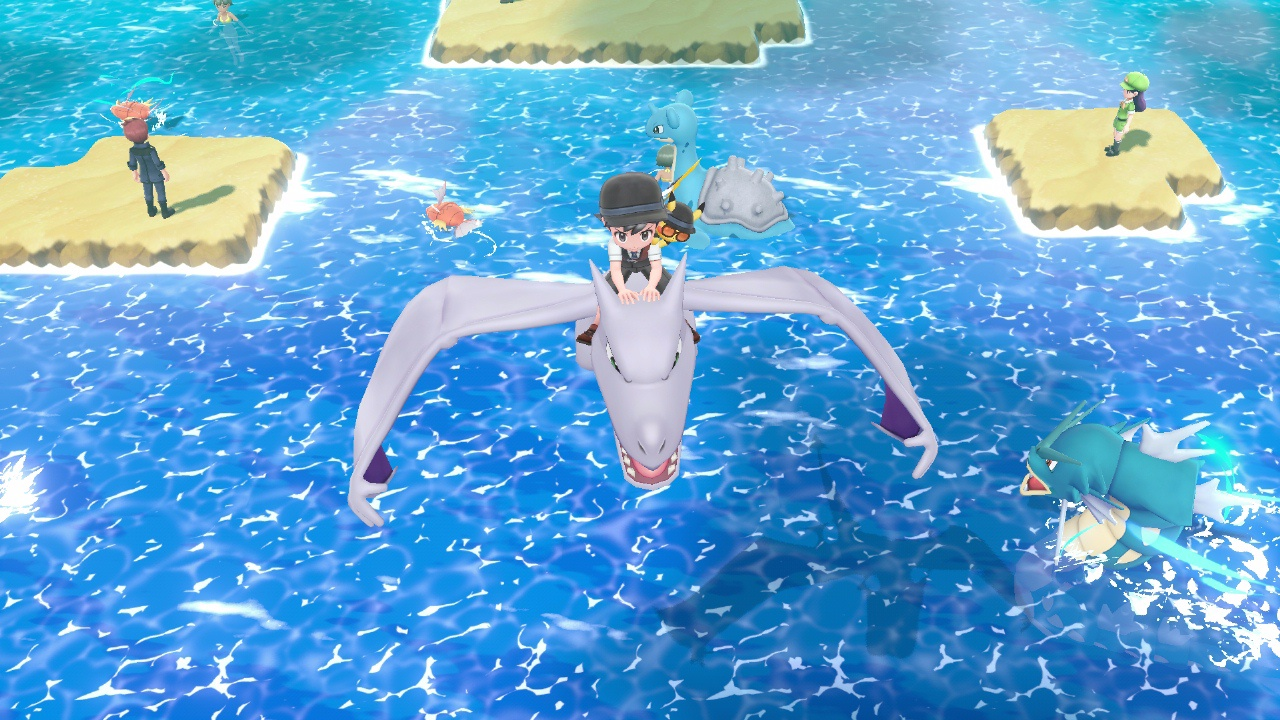Red: (423, 179, 483, 239), (108, 97, 168, 122)
